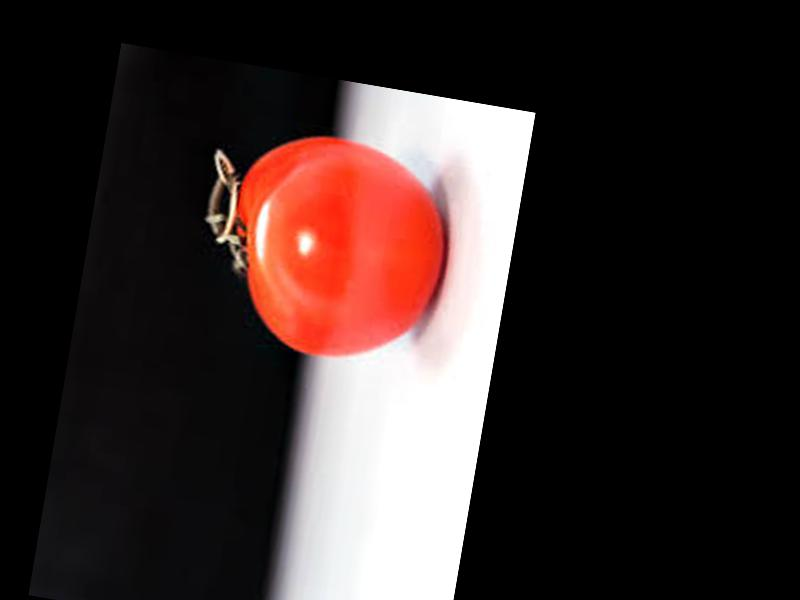Tomato: (213, 122, 460, 375)
